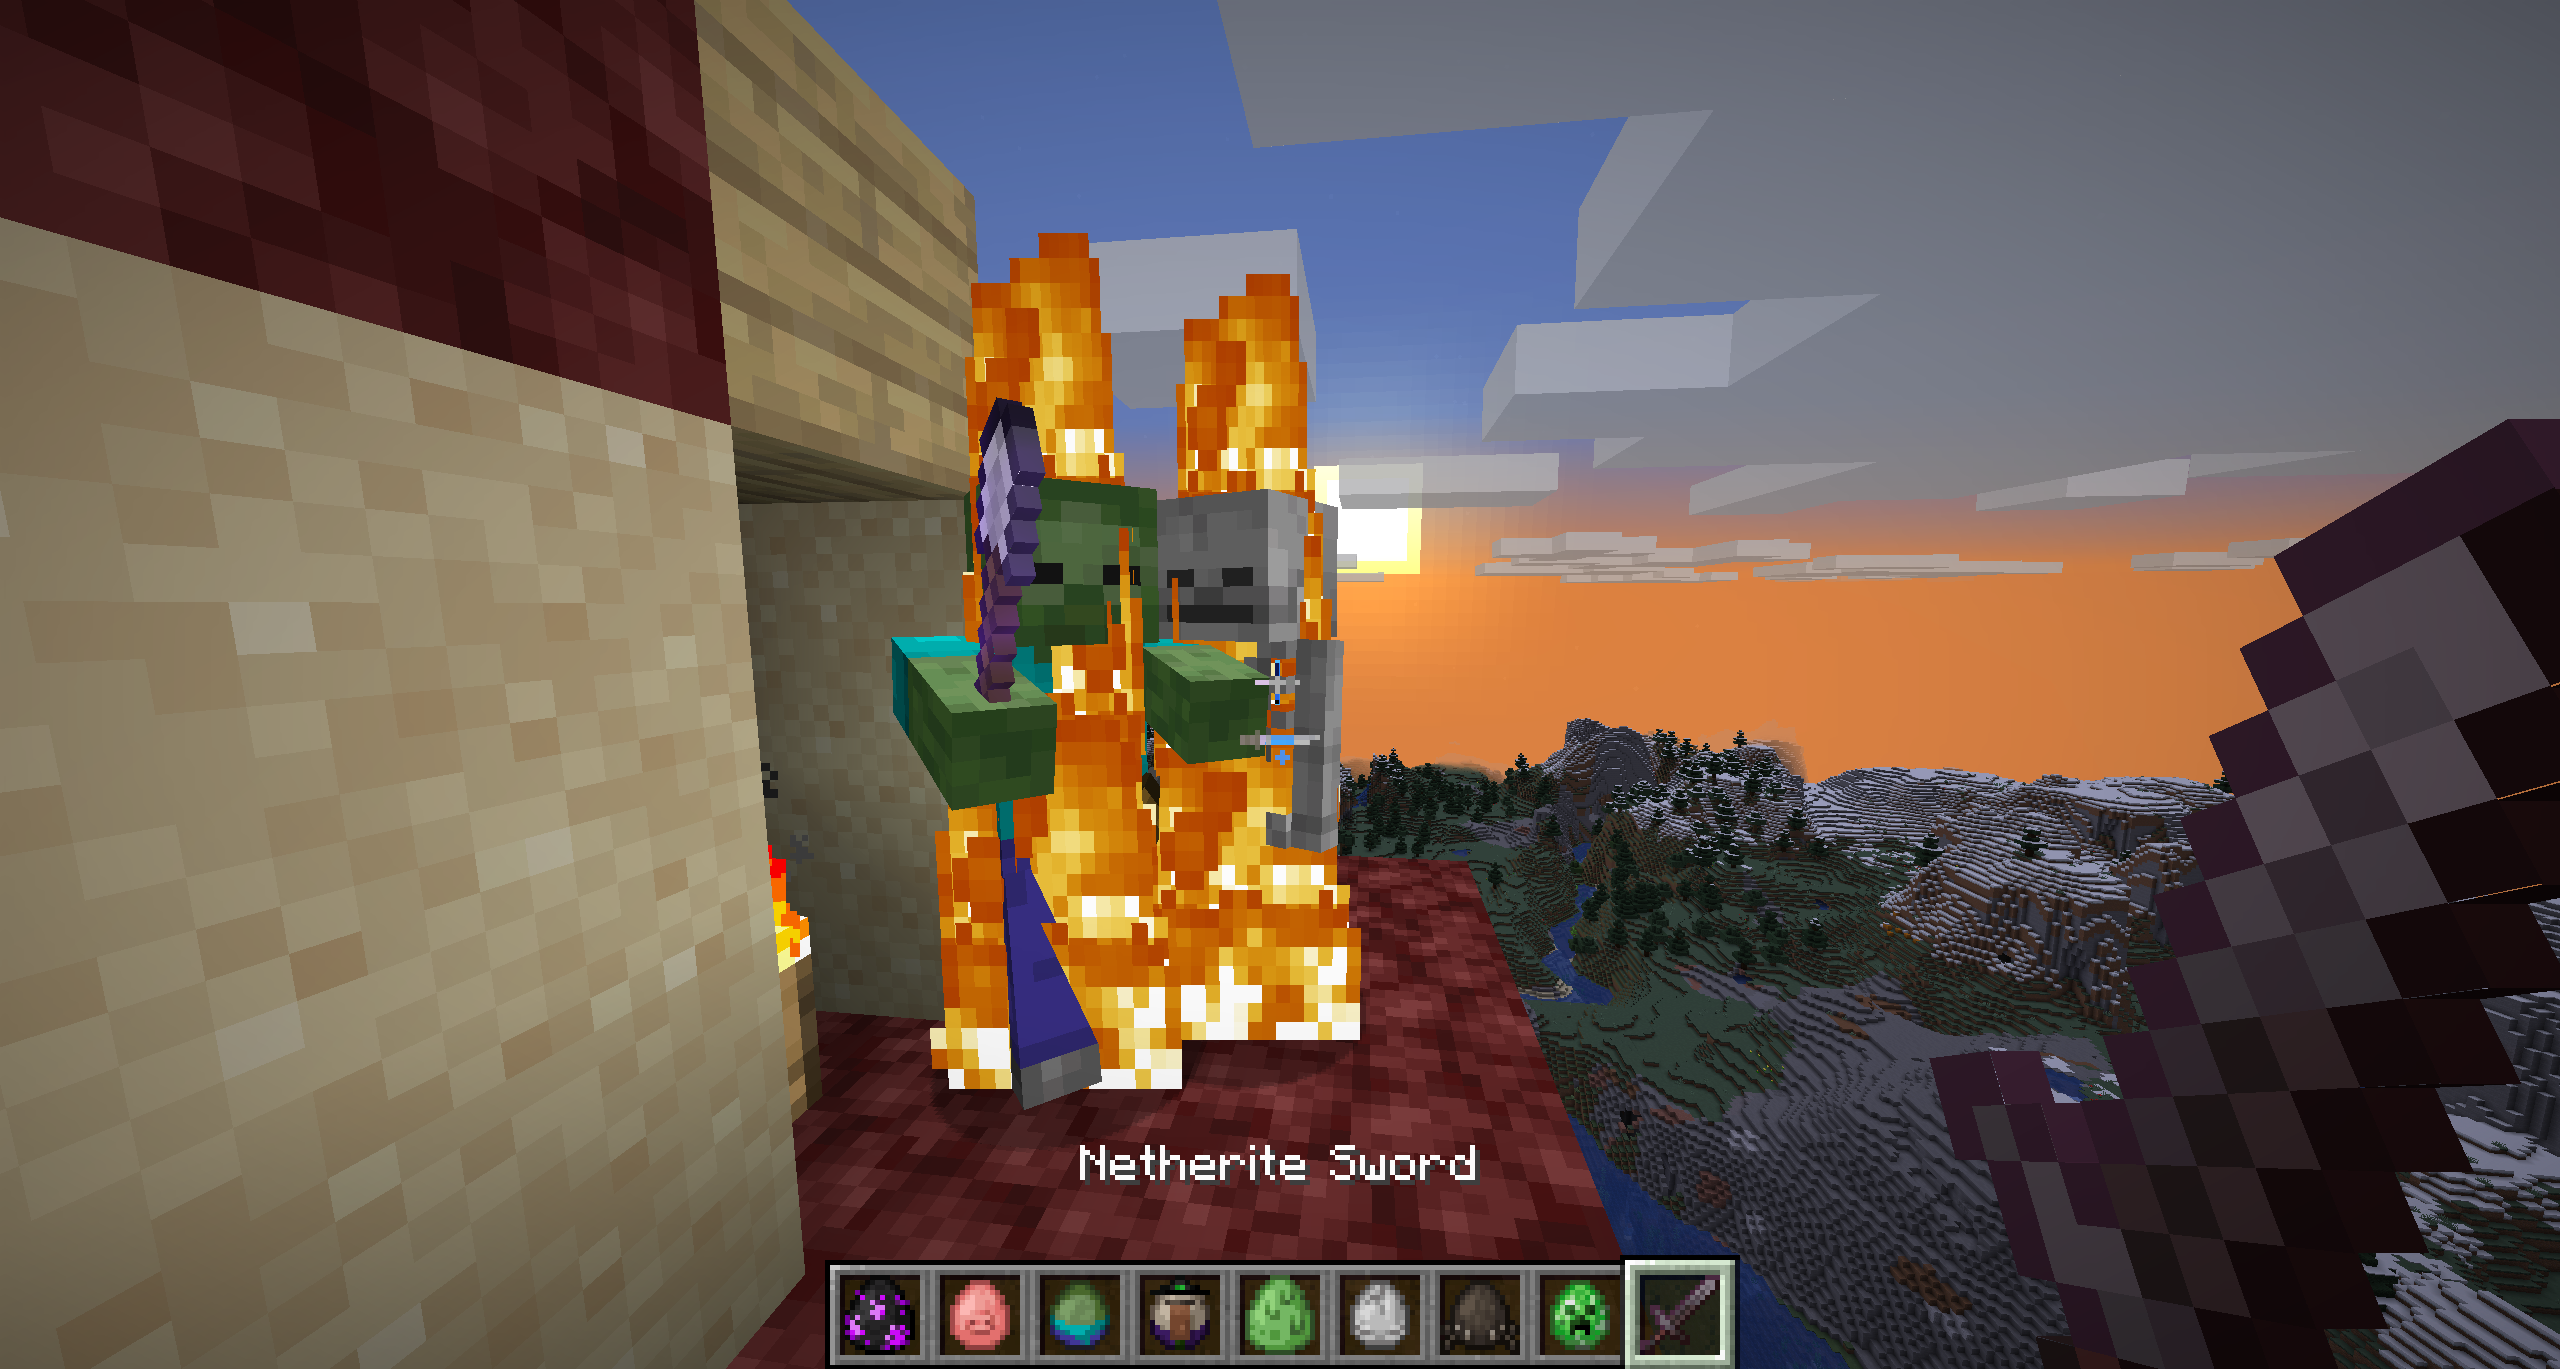squelettes: (1155, 494, 1363, 1046)
zombies: (896, 428, 1175, 1107)
